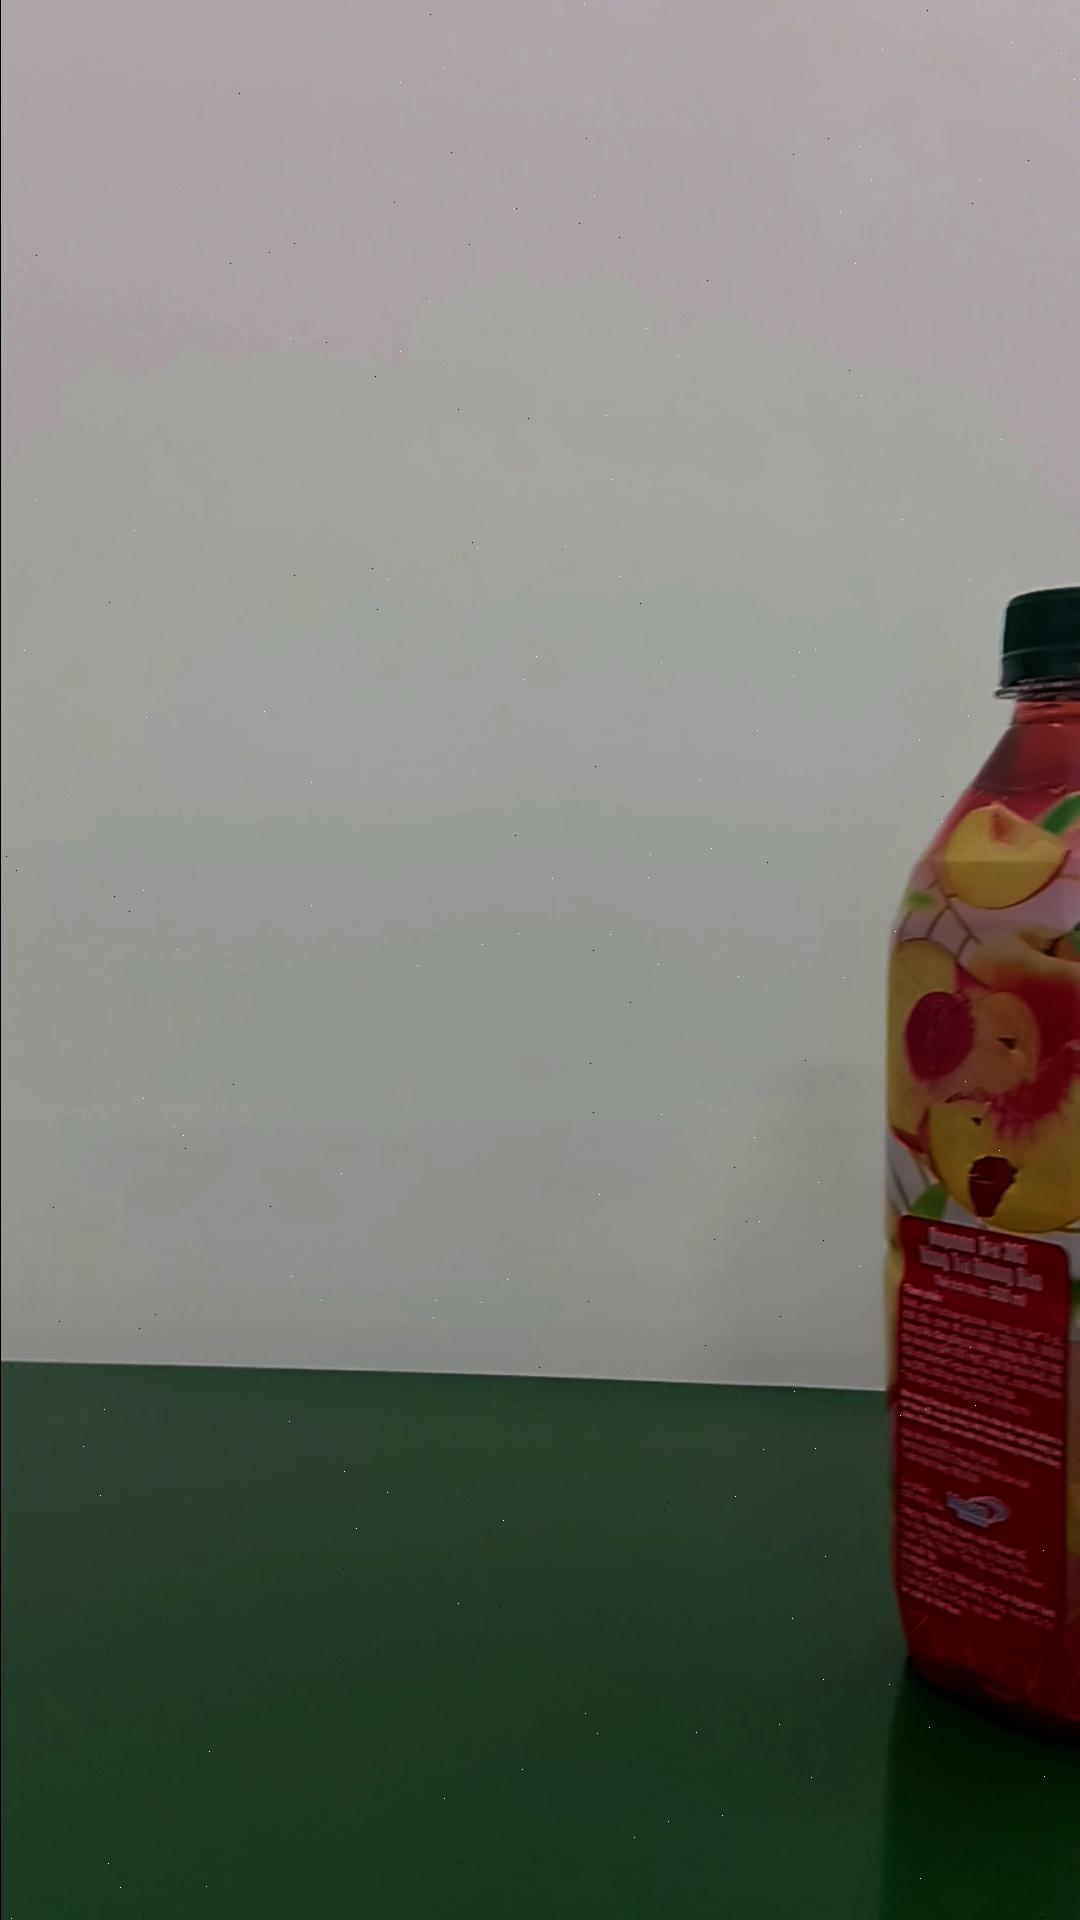loi rach va lap chai: (876, 579, 1077, 1759)
